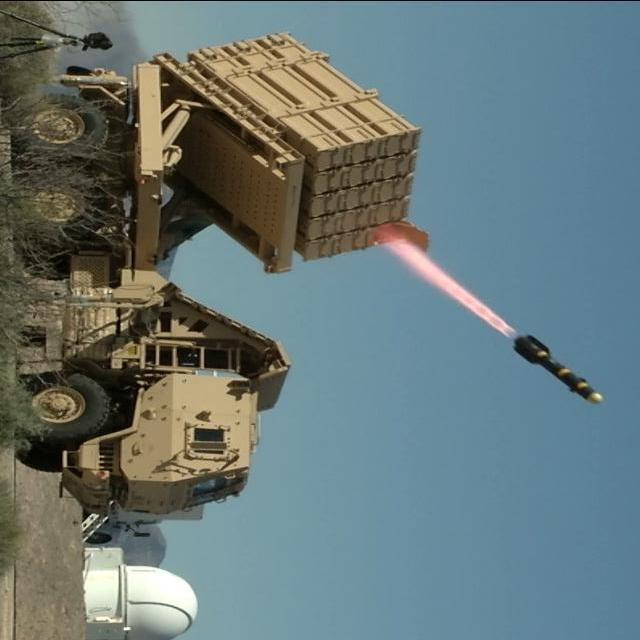missile: (506, 338, 612, 413)
